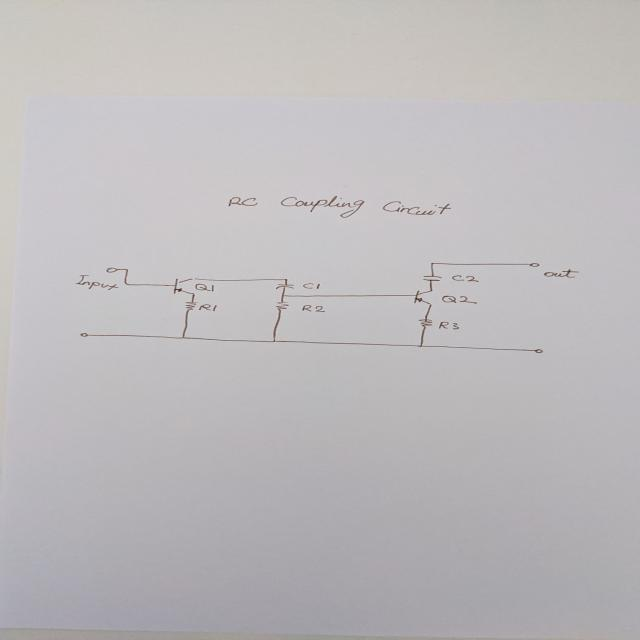capacitor: (420, 274, 443, 282), (275, 283, 296, 289)
junction: (416, 343, 425, 348), (180, 335, 187, 340), (279, 293, 287, 297), (122, 282, 130, 286), (271, 338, 278, 342), (282, 278, 289, 281), (429, 261, 434, 265), (124, 268, 130, 271)
resistor: (416, 318, 434, 330), (274, 300, 290, 312), (184, 300, 198, 310)
terminal: (104, 266, 118, 272), (78, 332, 90, 337), (528, 262, 540, 267), (533, 348, 543, 353)
text: (226, 194, 451, 218), (74, 274, 120, 291), (440, 294, 478, 304), (542, 268, 580, 278), (450, 274, 480, 282), (300, 304, 326, 313), (437, 320, 460, 330), (194, 282, 215, 292), (197, 303, 218, 312), (302, 282, 321, 289)
transistor: (171, 277, 197, 295), (412, 290, 435, 306)
